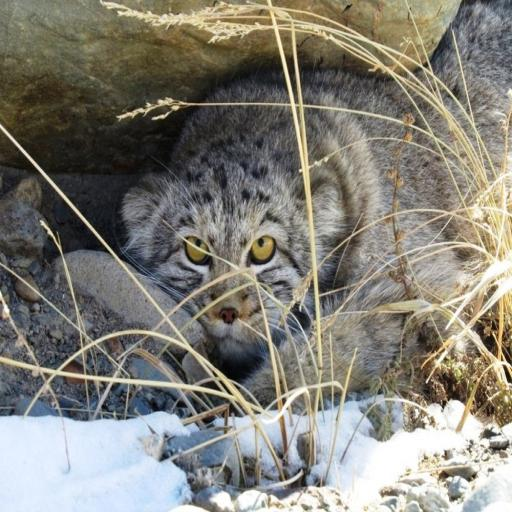manul: (121, 65, 477, 406), (431, 0, 511, 181)
